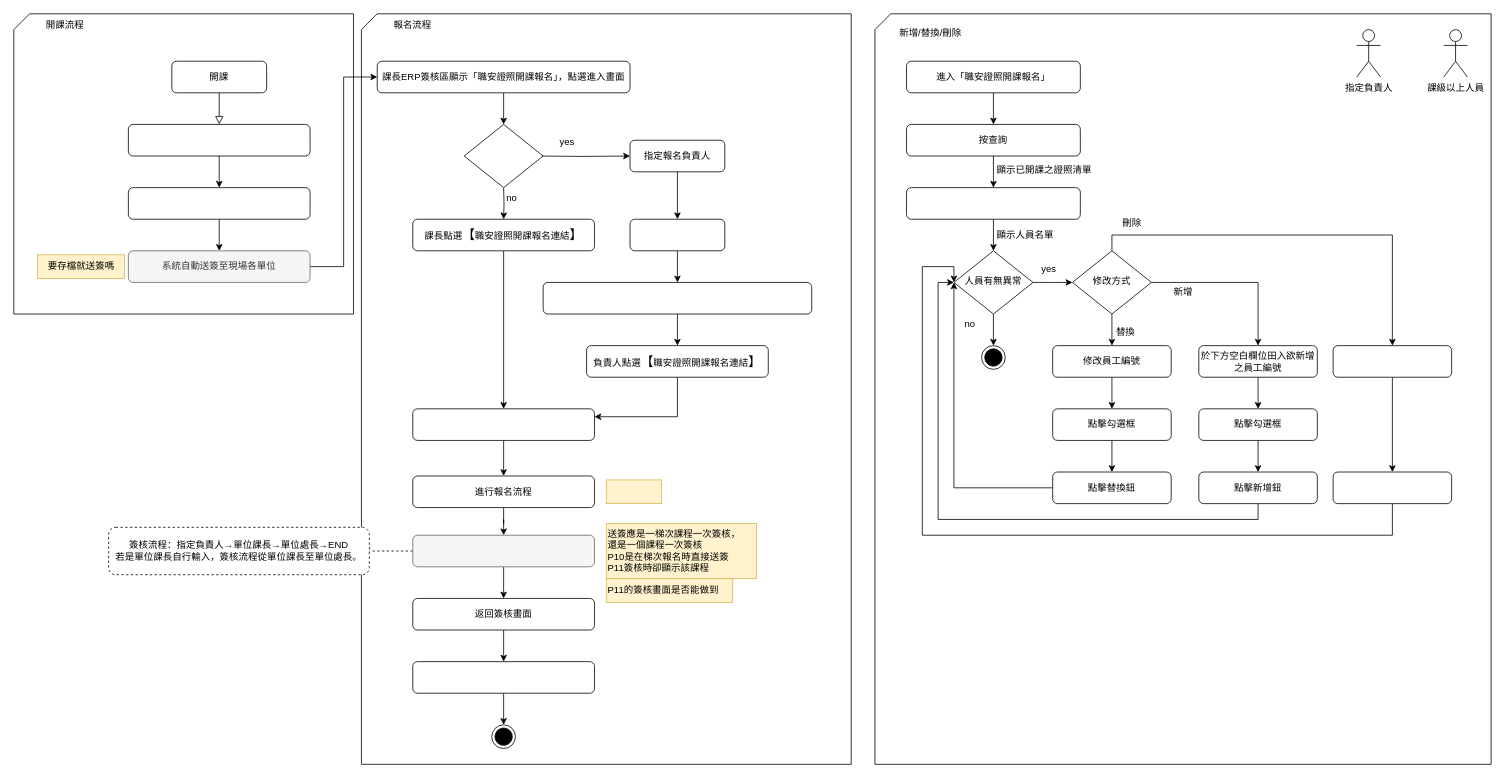
This 1505x778 diagram has some shape labels left out. Here are the shapes that lost their labels. From the top down, the box of each, then its label:
(128, 124, 310, 156): 輸入報名起訖日、受訓類型等資訊
(463, 124, 543, 188): 部門有負責人
(128, 187, 310, 219): 存檔確認
(906, 187, 1080, 219): 點選證照名稱
(629, 218, 725, 251): 系統加簽至負責人
(542, 282, 812, 314): 負責人ERP簽核區顯示「職安證照開課報名」，點選進入畫面
(1332, 345, 1452, 377): 勾選欲刪除的員工的勾選框
(412, 408, 594, 440): 跳轉至ERP 職安證照開課報名
(606, 479, 662, 504): 細節待定
(1332, 471, 1452, 504): 點擊刪除鈕
(412, 534, 594, 567): 點選 【 確認送簽 】
(412, 661, 594, 693): 點選核准
